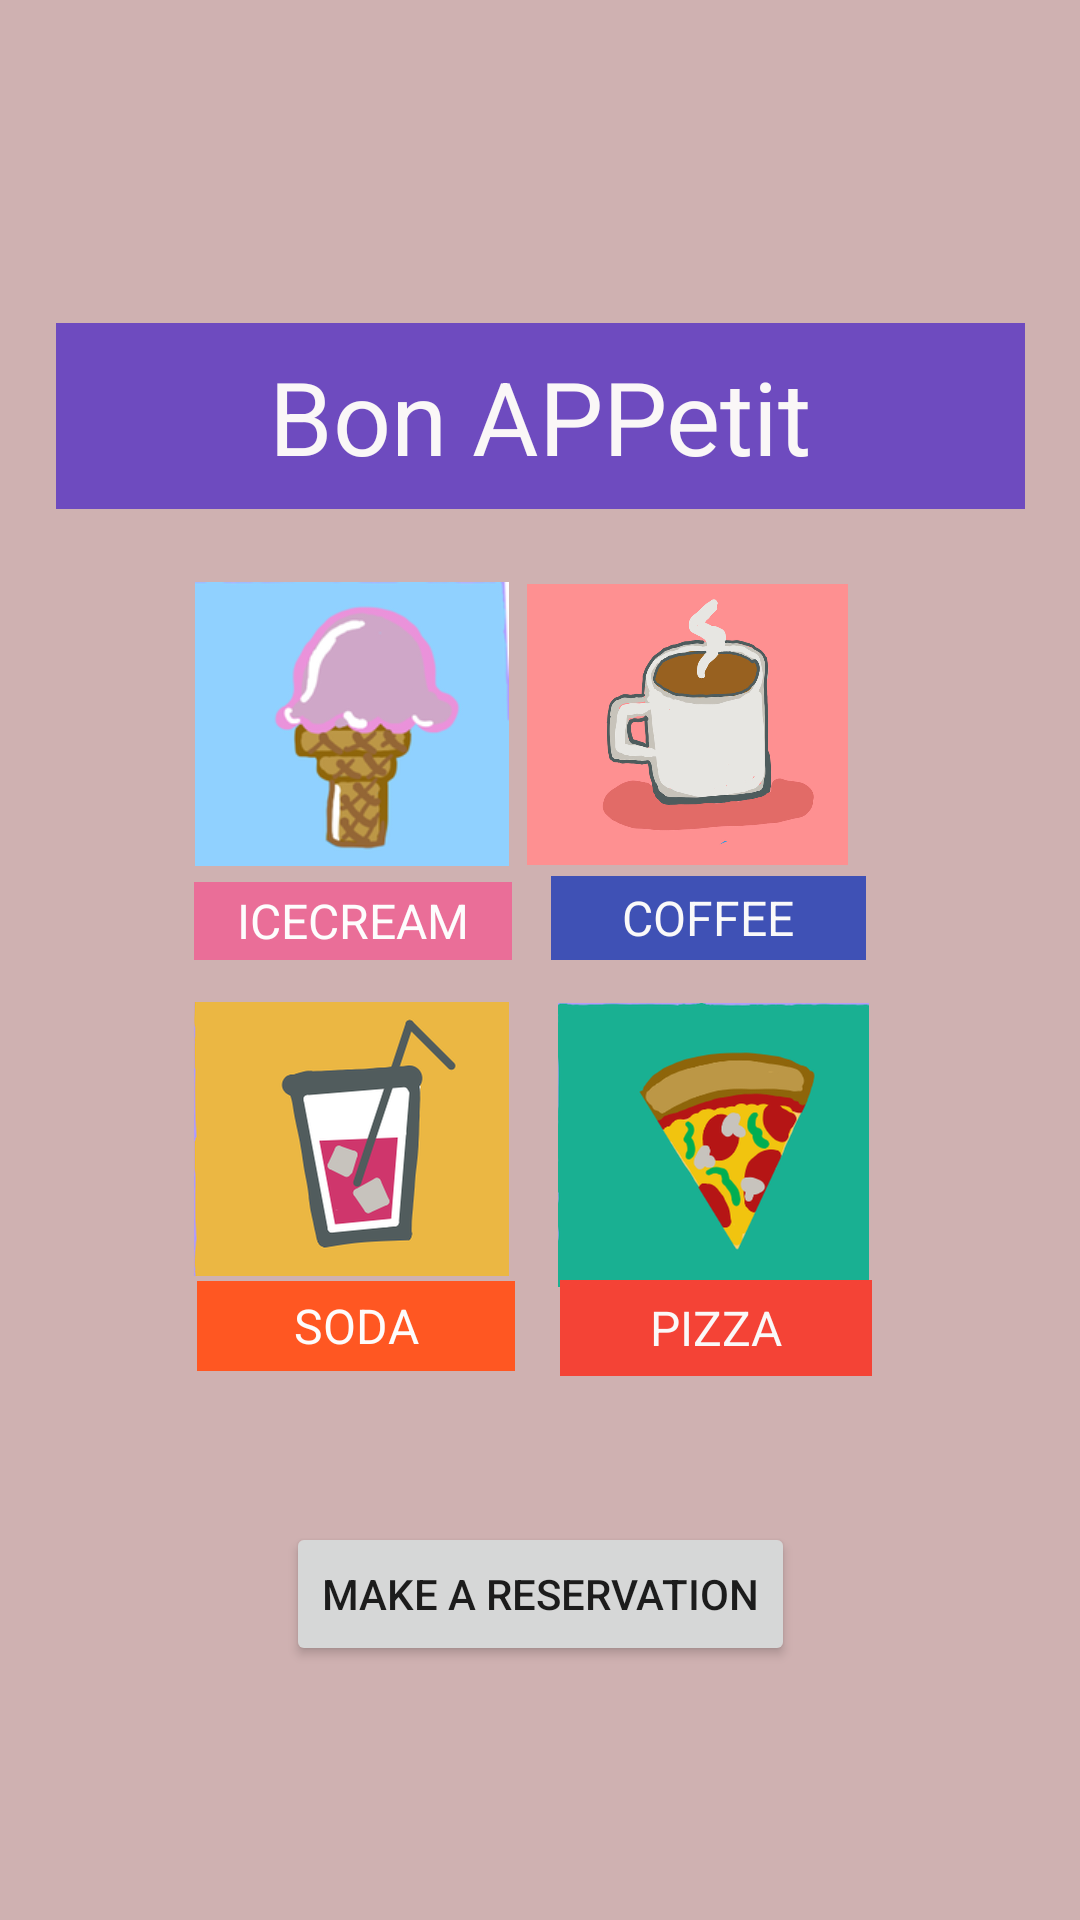

Locate icon controls on the screen. Image size 1080 × 1920, boxes as bbox(x1, y1, x2, y2).
drinks: bbox(194, 1002, 509, 1276)
